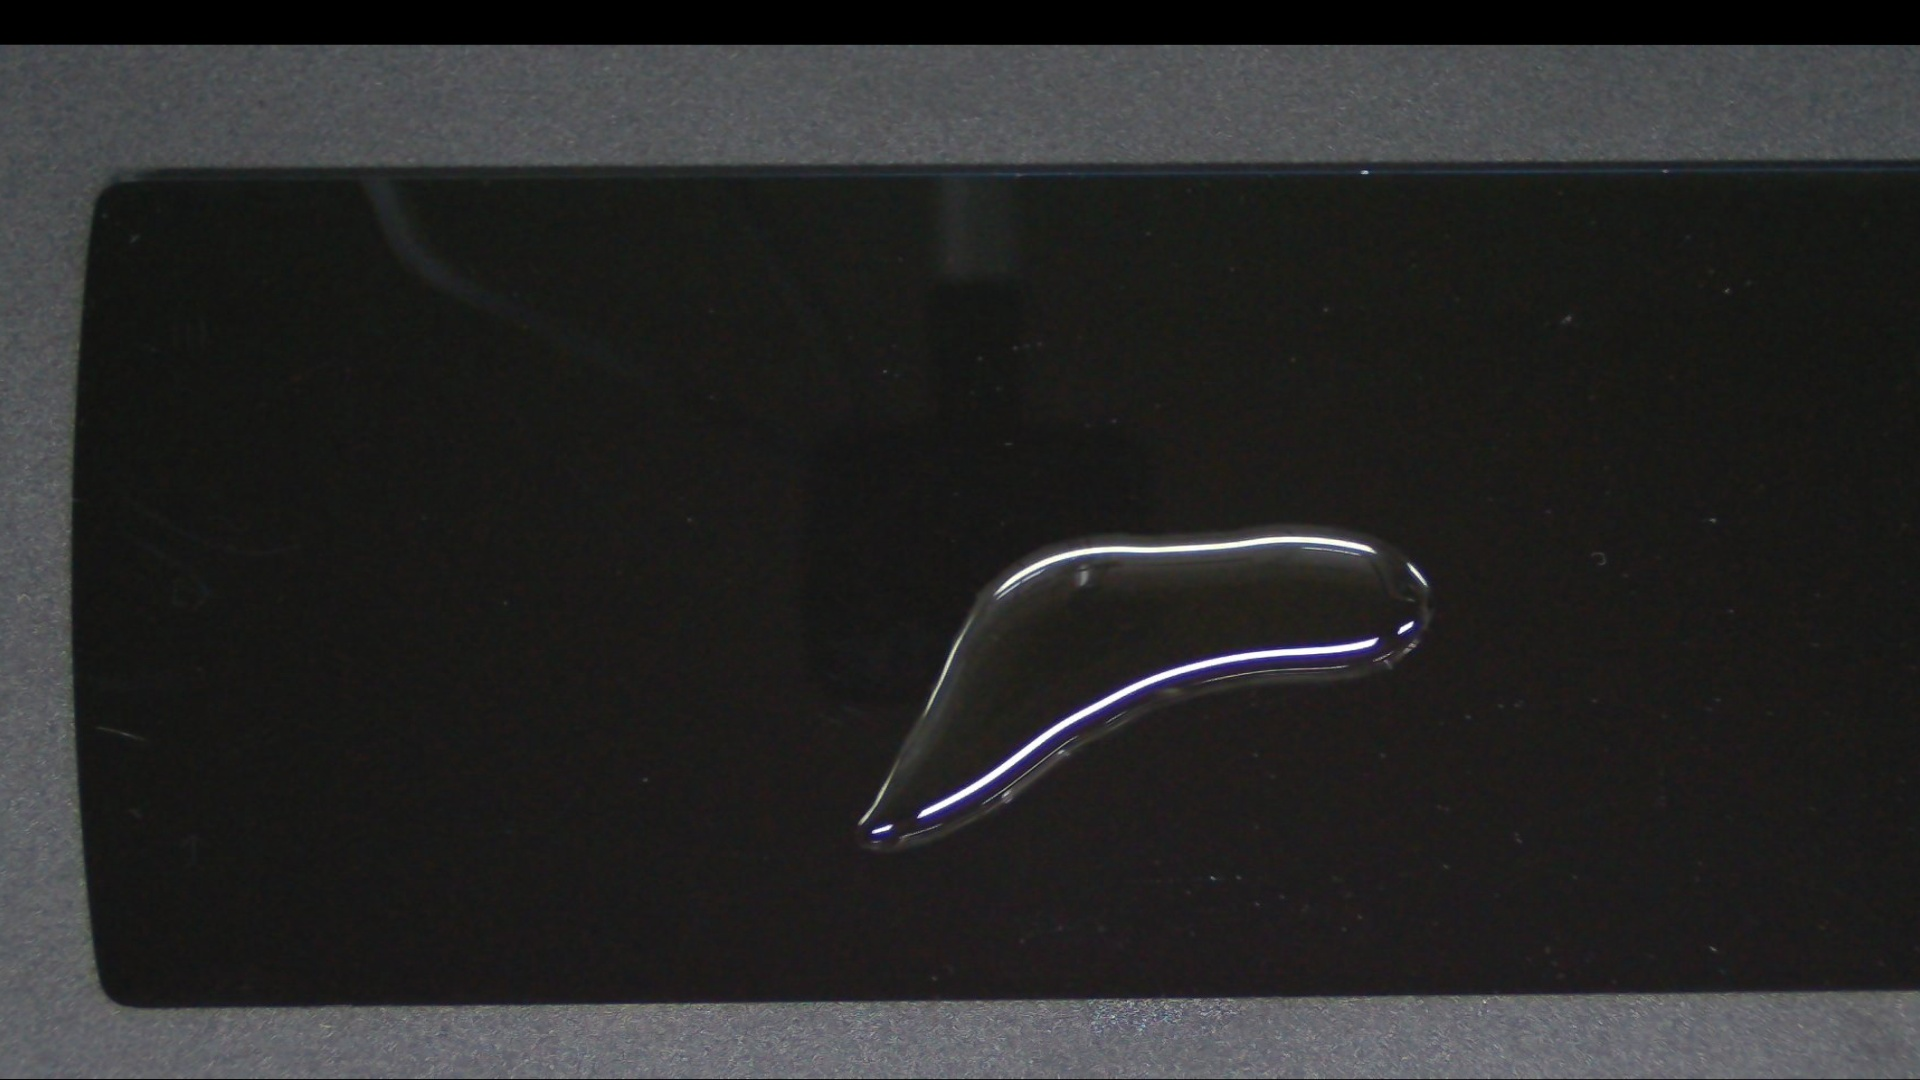oil: (630, 284, 1920, 762)
